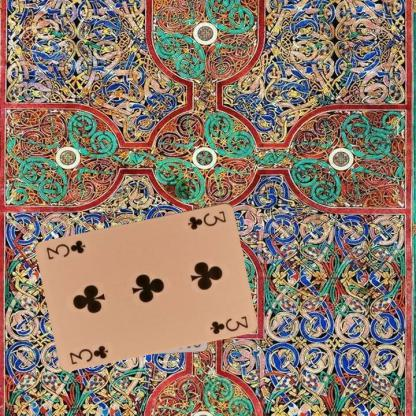3c: (67, 342, 110, 366), (185, 208, 228, 230)
